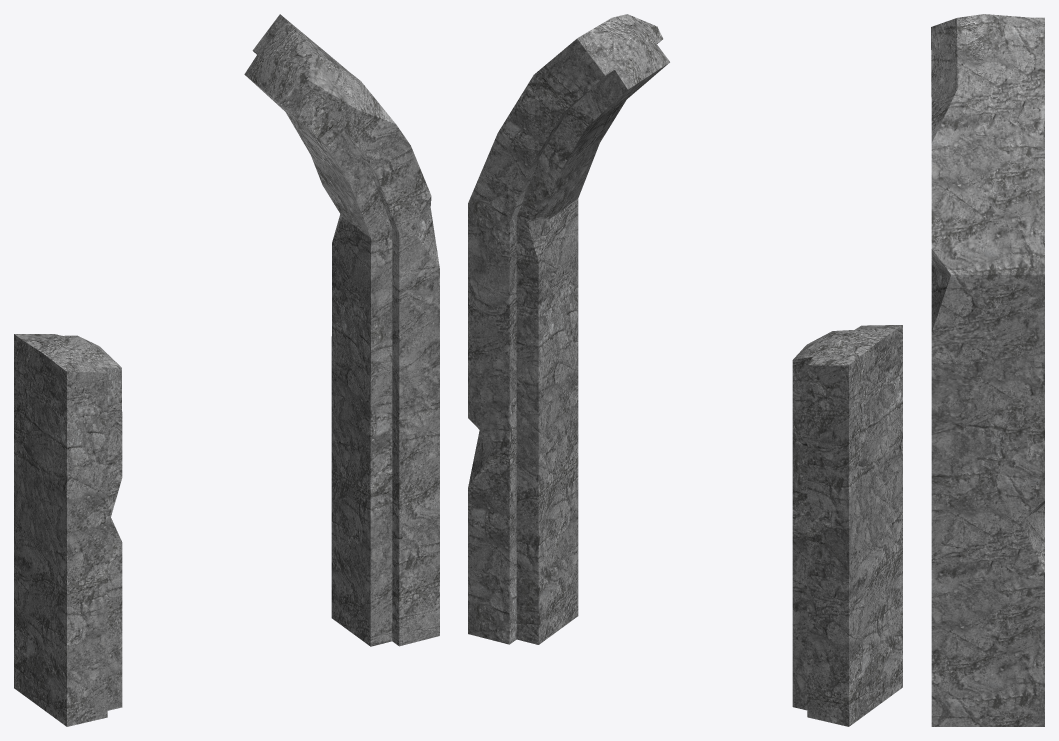
Rendered from materials_3_gate_4.fbx.
3 views of the same model, side by side, from view 1: azimuth 30°, elevation 25°; view 2: azimuth 150°, elevation 25°; view 3: azimuth 270°, elevation 25° (orthographic). The views are drawn at different scales.
Visible parts, largest first — view 1: materials_3_gate_4; view 2: materials_3_gate_4; view 3: materials_3_gate_4.
Boxes of the visible parts, <box> form: materials_3_gate_4: <box>14,14,439,726</box>; materials_3_gate_4: <box>468,14,902,726</box>; materials_3_gate_4: <box>931,14,1044,726</box>.
Size of the model in its own units: 184 by 289 by 45.51.
